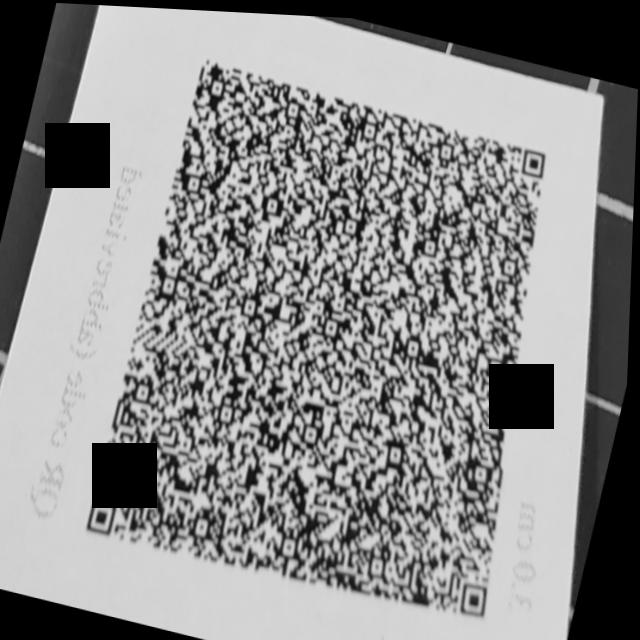QR_CODE: (64, 35, 610, 640)
